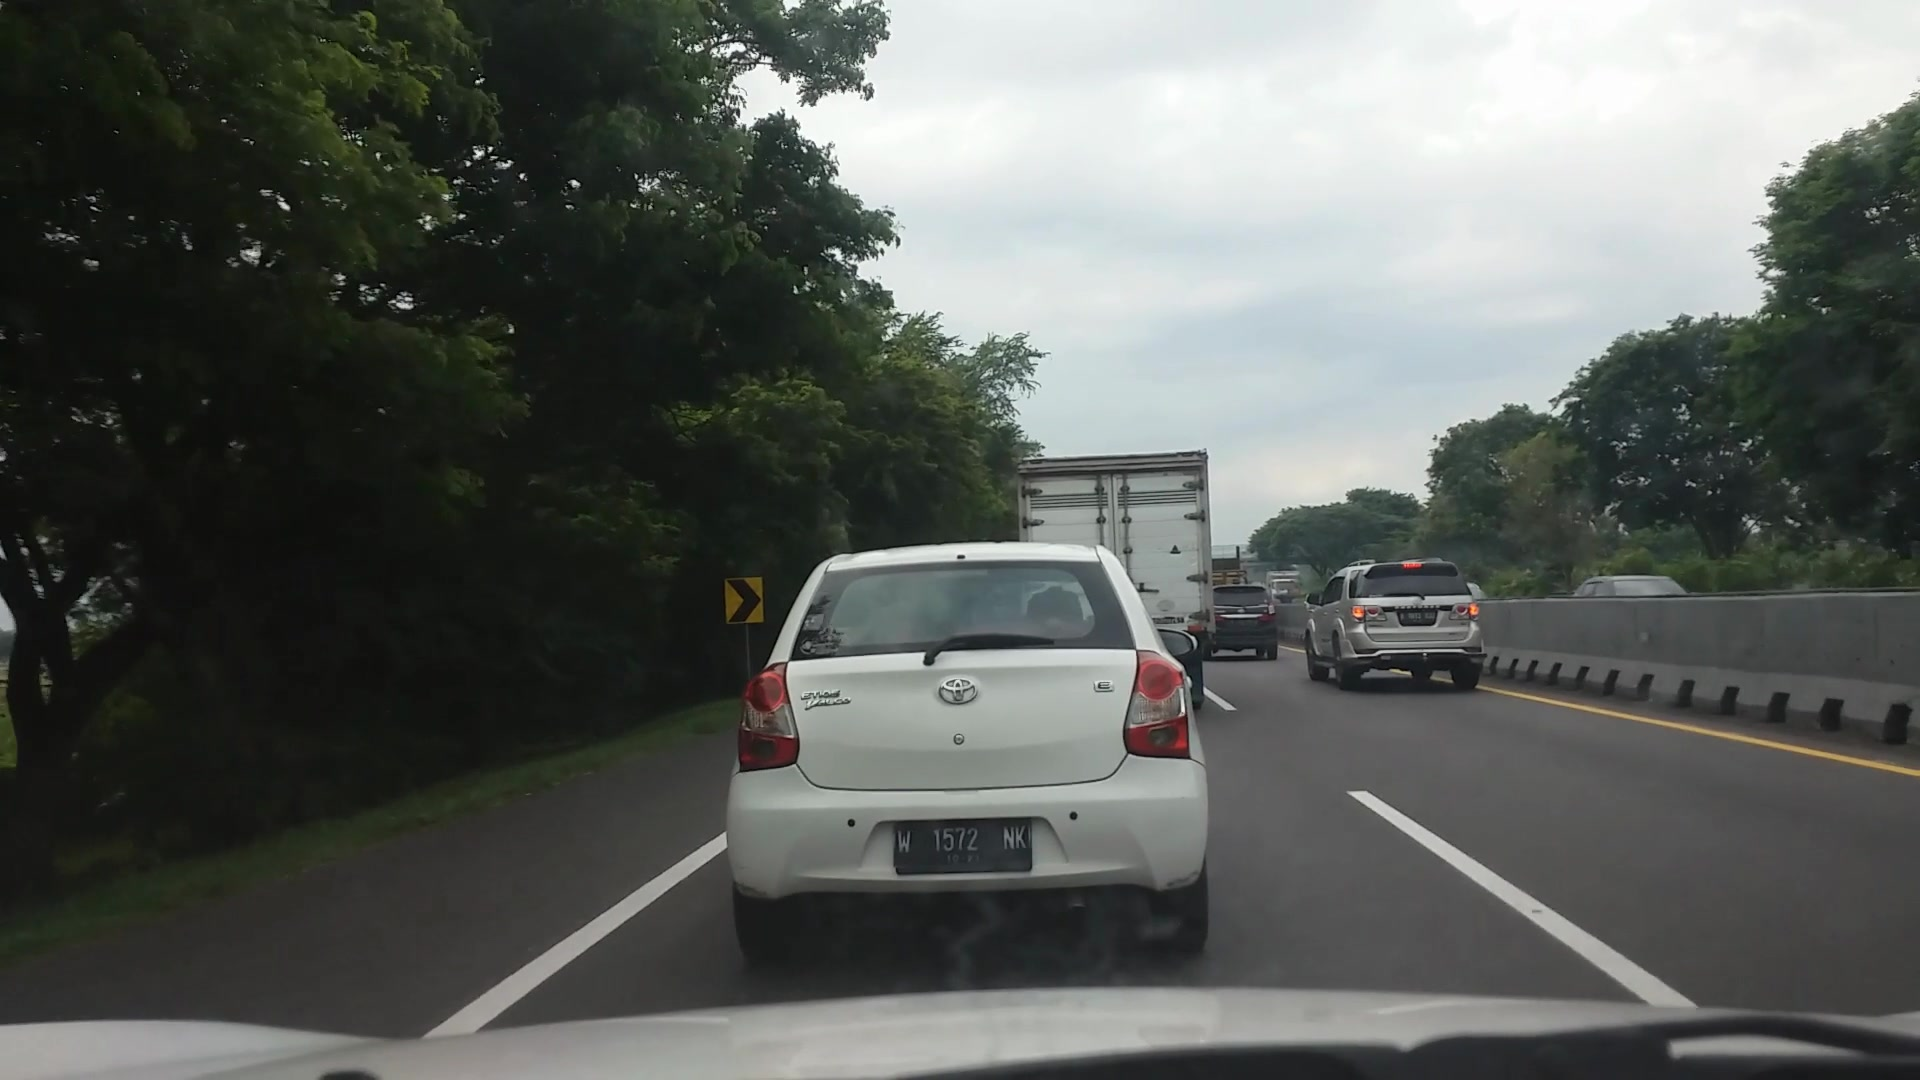plate_positive: (893, 818, 1033, 876)
